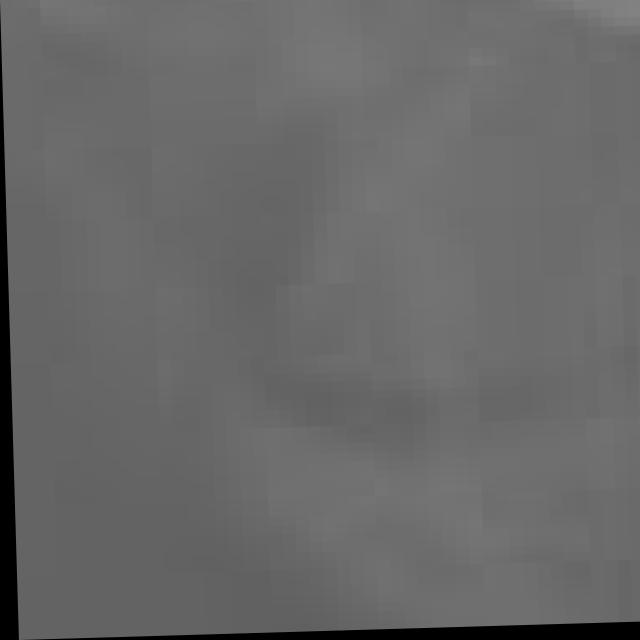fracture: (0, 6, 640, 636)
